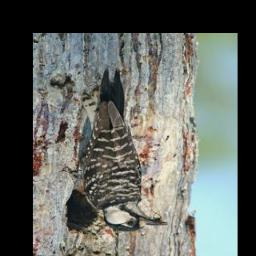Woodpecker: (60, 64, 170, 233)
